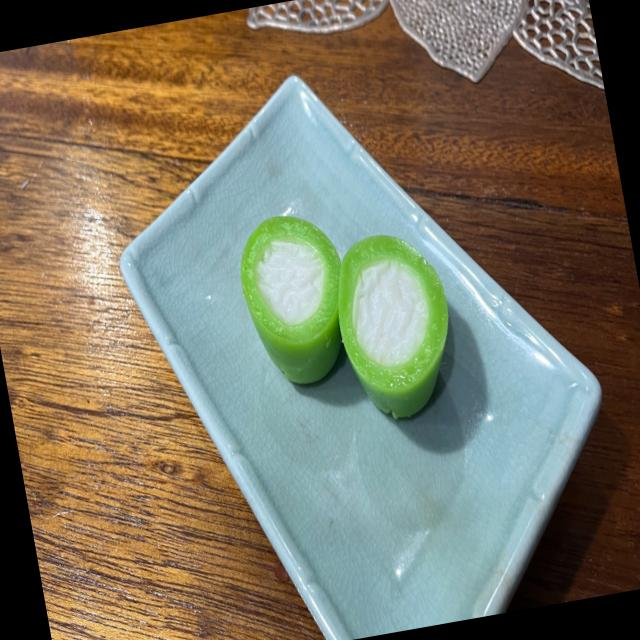nona-manis: (338, 234, 448, 418), (240, 215, 341, 384)
